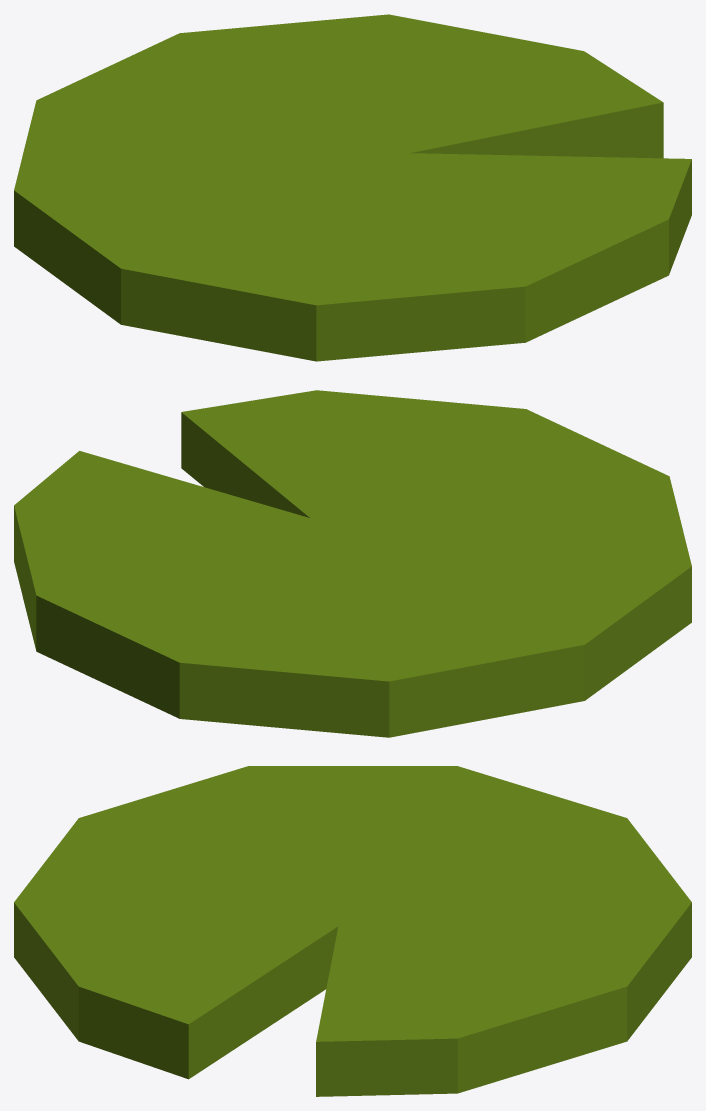
Rendered from WaterLily_Lime_1.fbx.
3 renders of one model, top to bottom at view 1: azimuth 30°, elevation 25°; view 2: azimuth 150°, elevation 25°; view 3: azimuth 270°, elevation 25°, orthographic. The views are drawn at different scales.
Parts seen in each view (by area): view 1: WaterLily_Lime (1); view 2: WaterLily_Lime (1); view 3: WaterLily_Lime (1).
Boxes of the visible parts, x1,y1,x2,y2 form: WaterLily_Lime (1): [14, 14, 691, 361]; WaterLily_Lime (1): [14, 390, 691, 737]; WaterLily_Lime (1): [14, 766, 691, 1096].
Size of the model in its own units: 115 by 10.66 by 119.
